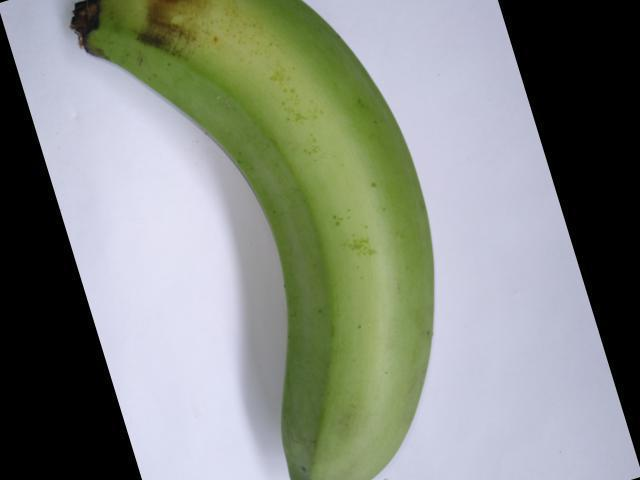freshunripe: (54, 0, 456, 479)
